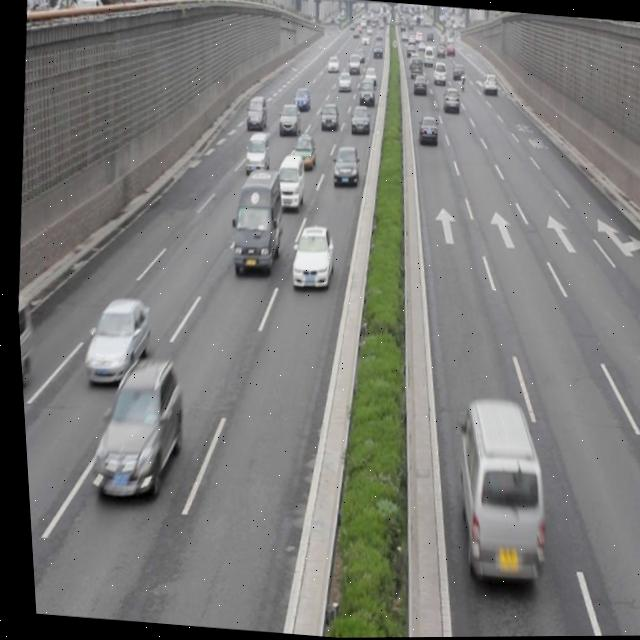car: (81, 352, 184, 502), (76, 293, 151, 385), (284, 222, 333, 290), (329, 145, 359, 187), (241, 93, 267, 132), (288, 131, 314, 168), (275, 102, 300, 136), (346, 103, 369, 136), (414, 114, 437, 145), (316, 102, 337, 132)
truck: (439, 393, 549, 583), (224, 164, 284, 275), (271, 152, 304, 210), (240, 131, 270, 176)
